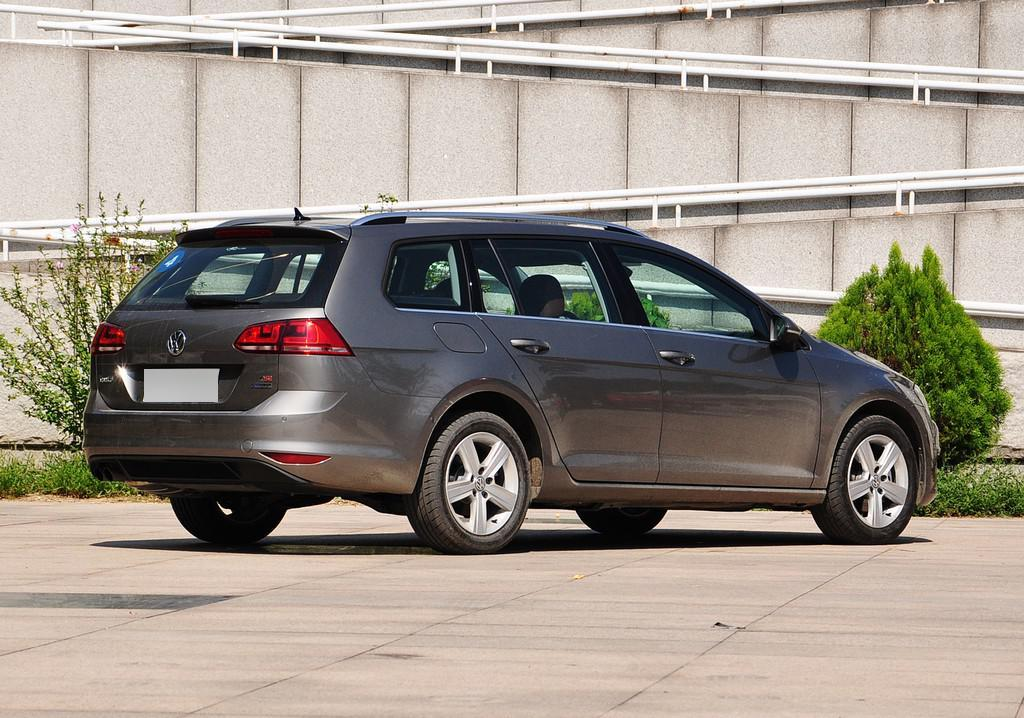Wagon: (81, 210, 942, 554)
